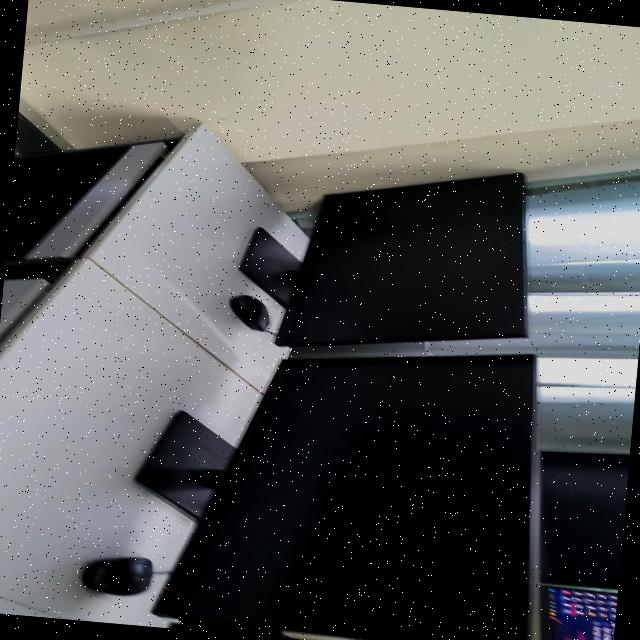Monitor: (134, 355, 538, 640), (238, 173, 527, 347), (540, 451, 629, 589), (540, 585, 617, 640)
Mouse: (81, 556, 169, 595), (229, 294, 268, 331)
